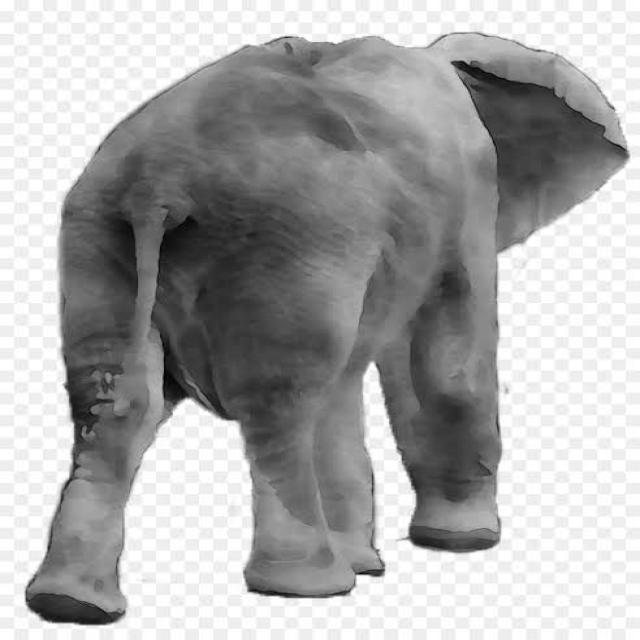Buffalo: (24, 30, 628, 624)
